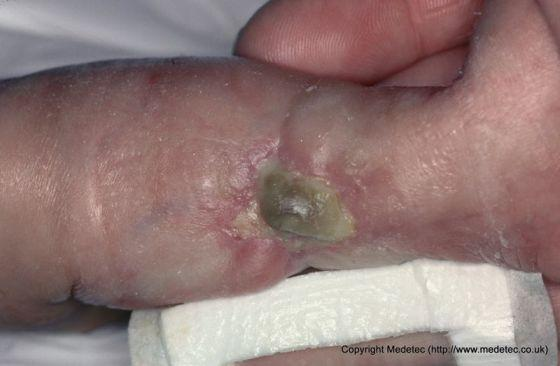NonPU: (165, 115, 381, 268)
